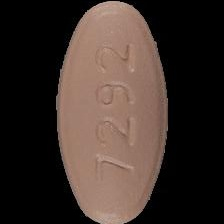63187-047: (0, 0, 224, 224)
